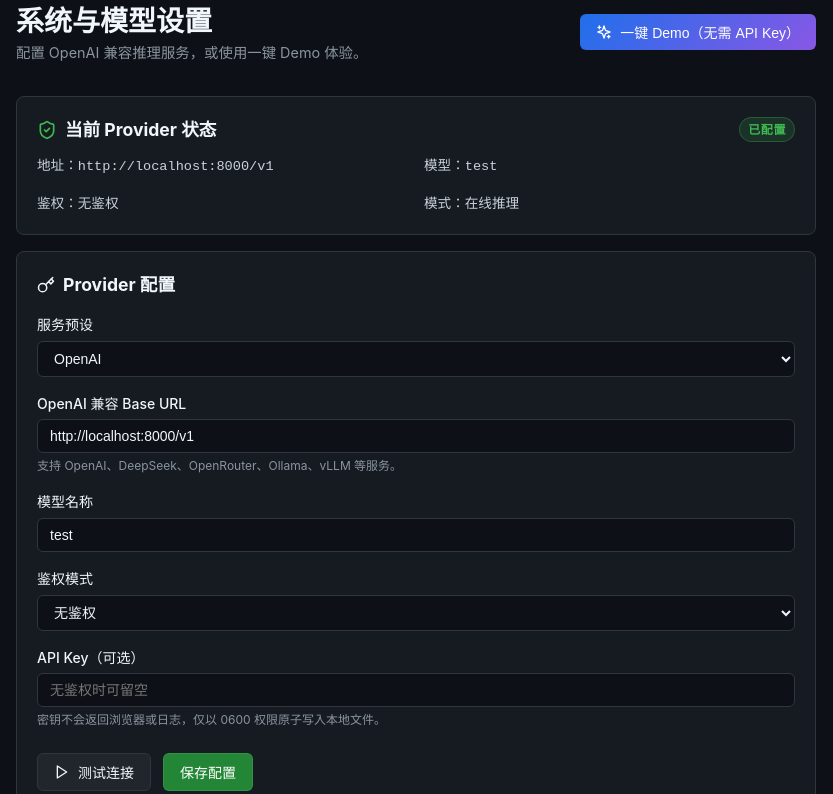
Test: SetupPage generation warnings › shows warnings while keeping a confirmed connection successful
This screenshot has width=833, height=794.
Click the button "测试连接". click: point(94, 772)
box: top-left (37, 753), bottom-right (151, 791)
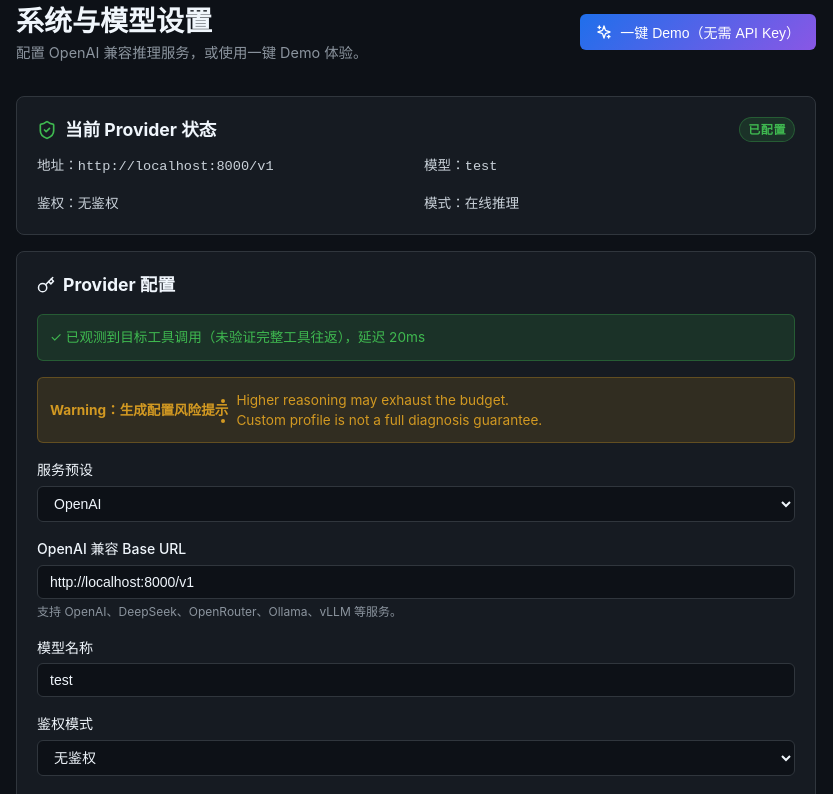
expect the text with class "alert-success" shows "已观测到目标工具调用": met, box top-left (50, 329), bottom-right (425, 345)
expect the message named "Generation configuration warnings" shows "Higher reasoning may exhaust the budget.": met, box top-left (236, 392), bottom-right (509, 408)
expect the number of list items is 2: met, box top-left (236, 390), bottom-right (542, 410); top-left (236, 410), bottom-right (542, 430)
